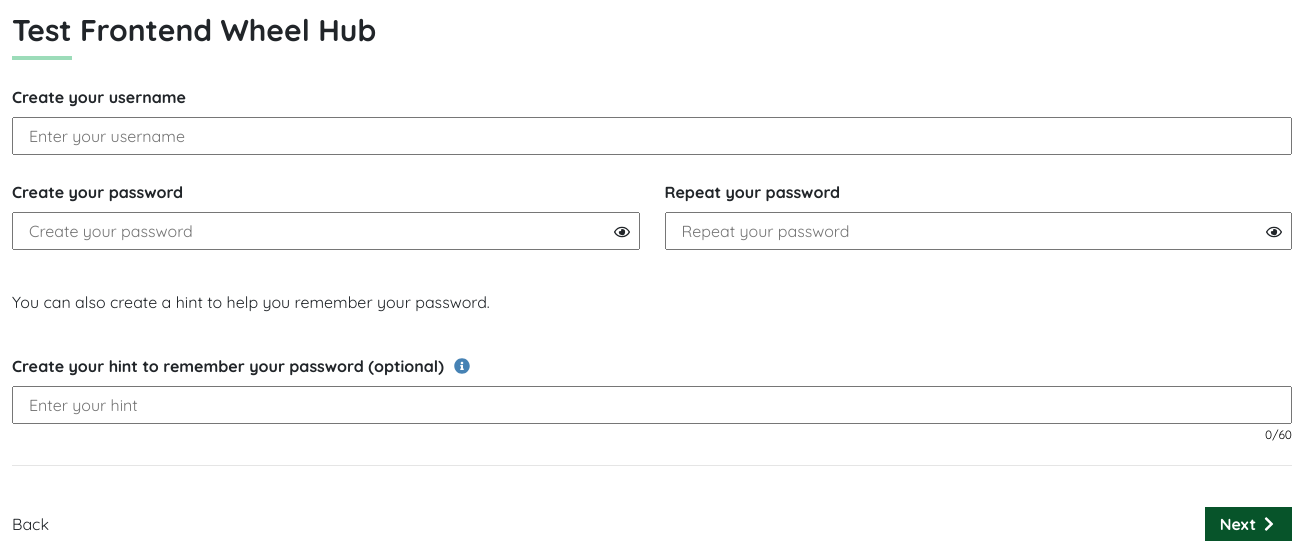
Test: UserForm › clicking next button with unsafe password gets warning
In the password field labelled "Create your password": {"x": 326, "y": 231} [12,212,640,250], type "password"
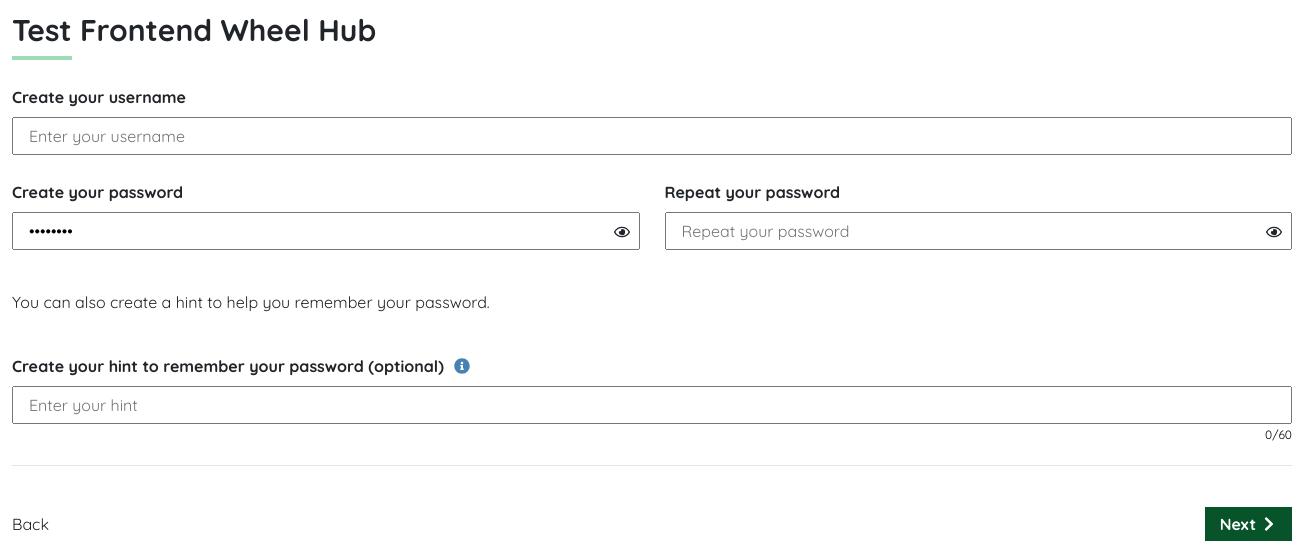
Click the button "Next": {"x": 1248, "y": 524} [1205,507,1292,541]
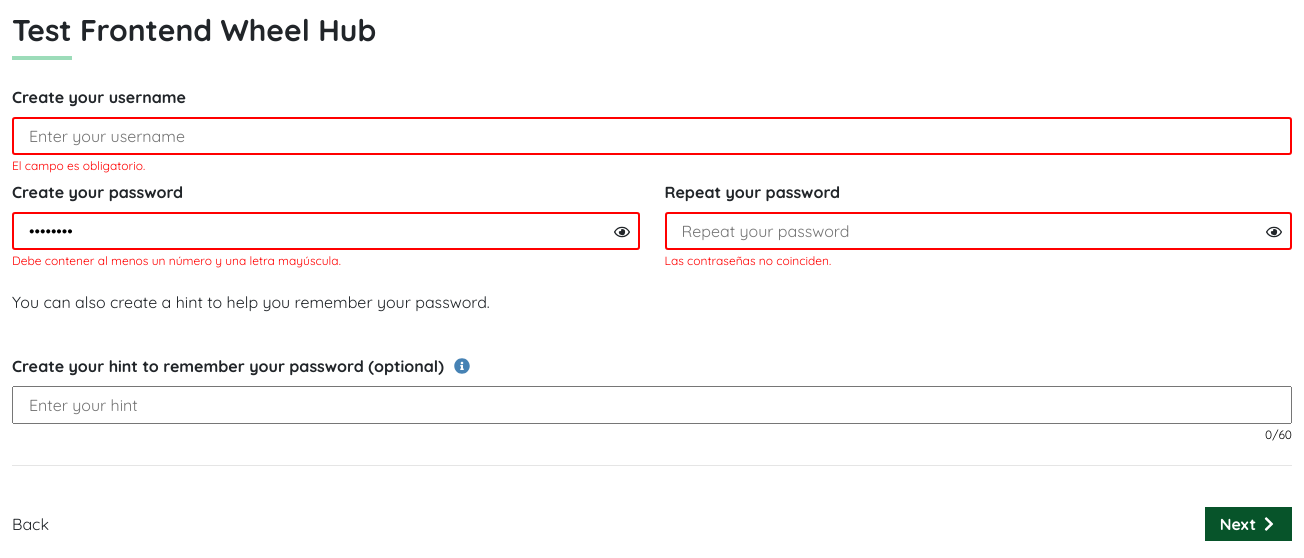
Expected: the text "Debe contener al menos un número y una letra mayúscula." is shown, [12,252,341,270]
